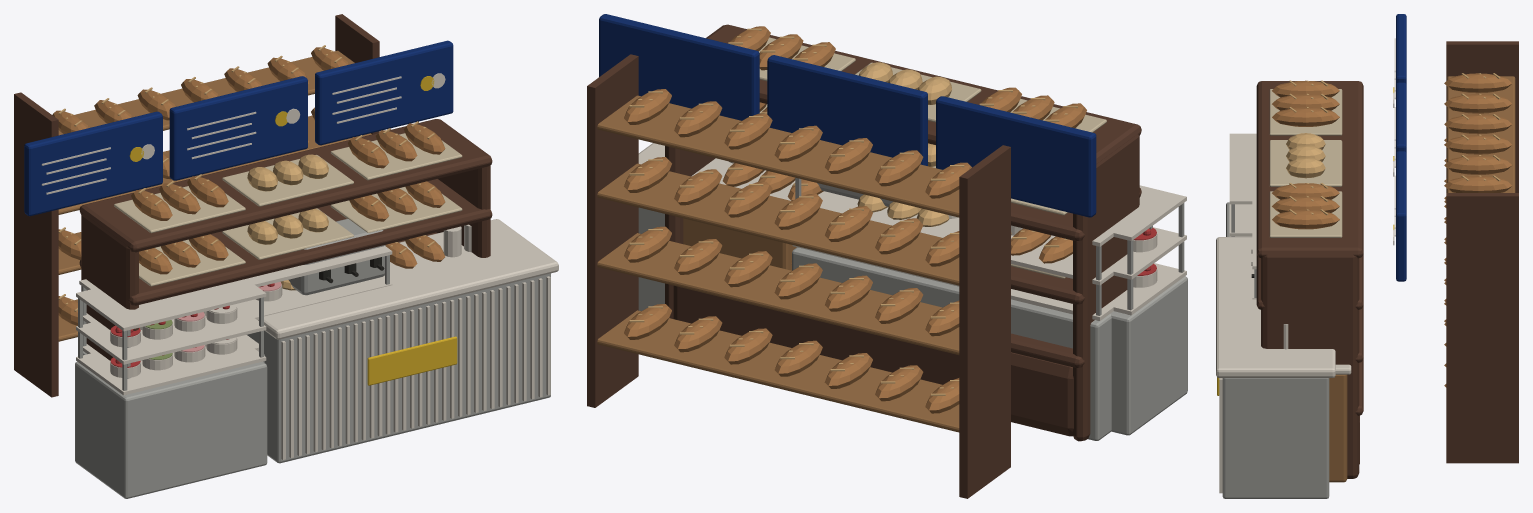
The model's file is retail.glb.
3 views of the same model, side by side, from view 1: azimuth 30°, elevation 25°; view 2: azimuth 150°, elevation 25°; view 3: azimuth 270°, elevation 25° (orthographic). The views are drawn at different scales.
Parts seen in each view (by area): view 1: PaikCounter, BakedMulan, BonCroissant; view 2: BonCroissant, PaikCounter, BakedMulan; view 3: BonCroissant, BakedMulan, PaikCounter.
Boxes of the visible parts, x1,y1,x2,y2 form: PaikCounter: (24, 40, 558, 498); BakedMulan: (79, 119, 492, 360); BonCroissant: (14, 14, 392, 397); BonCroissant: (587, 54, 1152, 498); PaikCounter: (599, 14, 1187, 435); BakedMulan: (665, 24, 1141, 441); BonCroissant: (1252, 41, 1518, 482); BakedMulan: (1256, 80, 1363, 478); PaikCounter: (1216, 14, 1406, 498).
Bounding box in the file's own units: 3.44 × 2.18 × 2.12.
